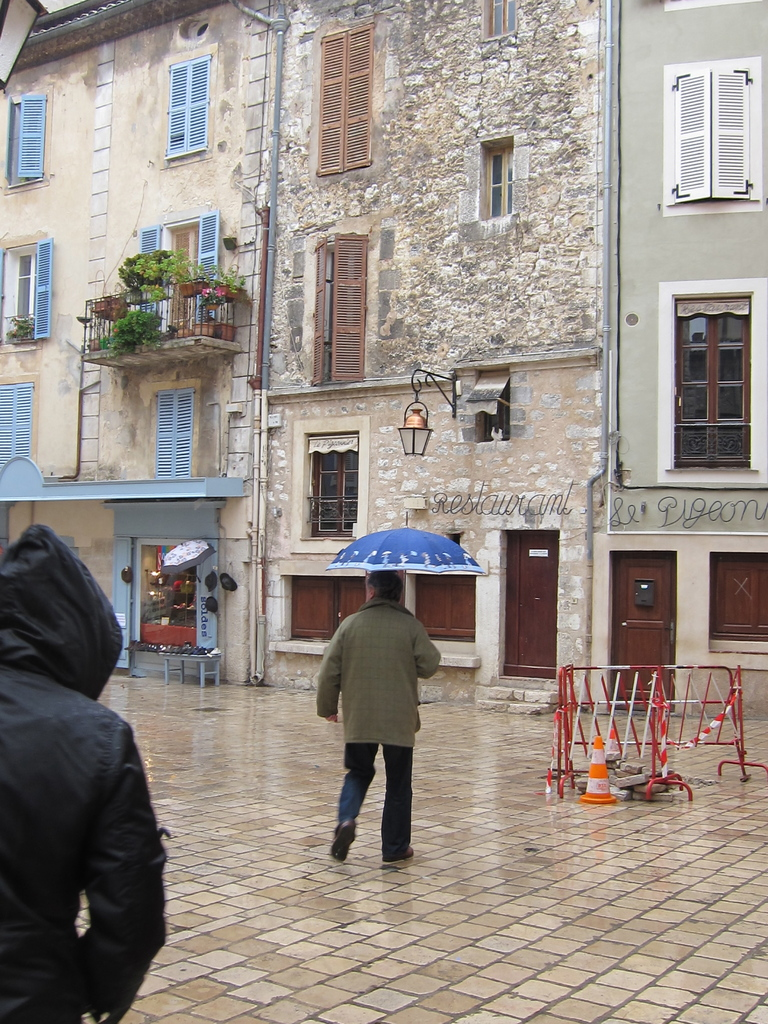Footwear: (326, 822, 356, 860), (382, 845, 417, 863)
